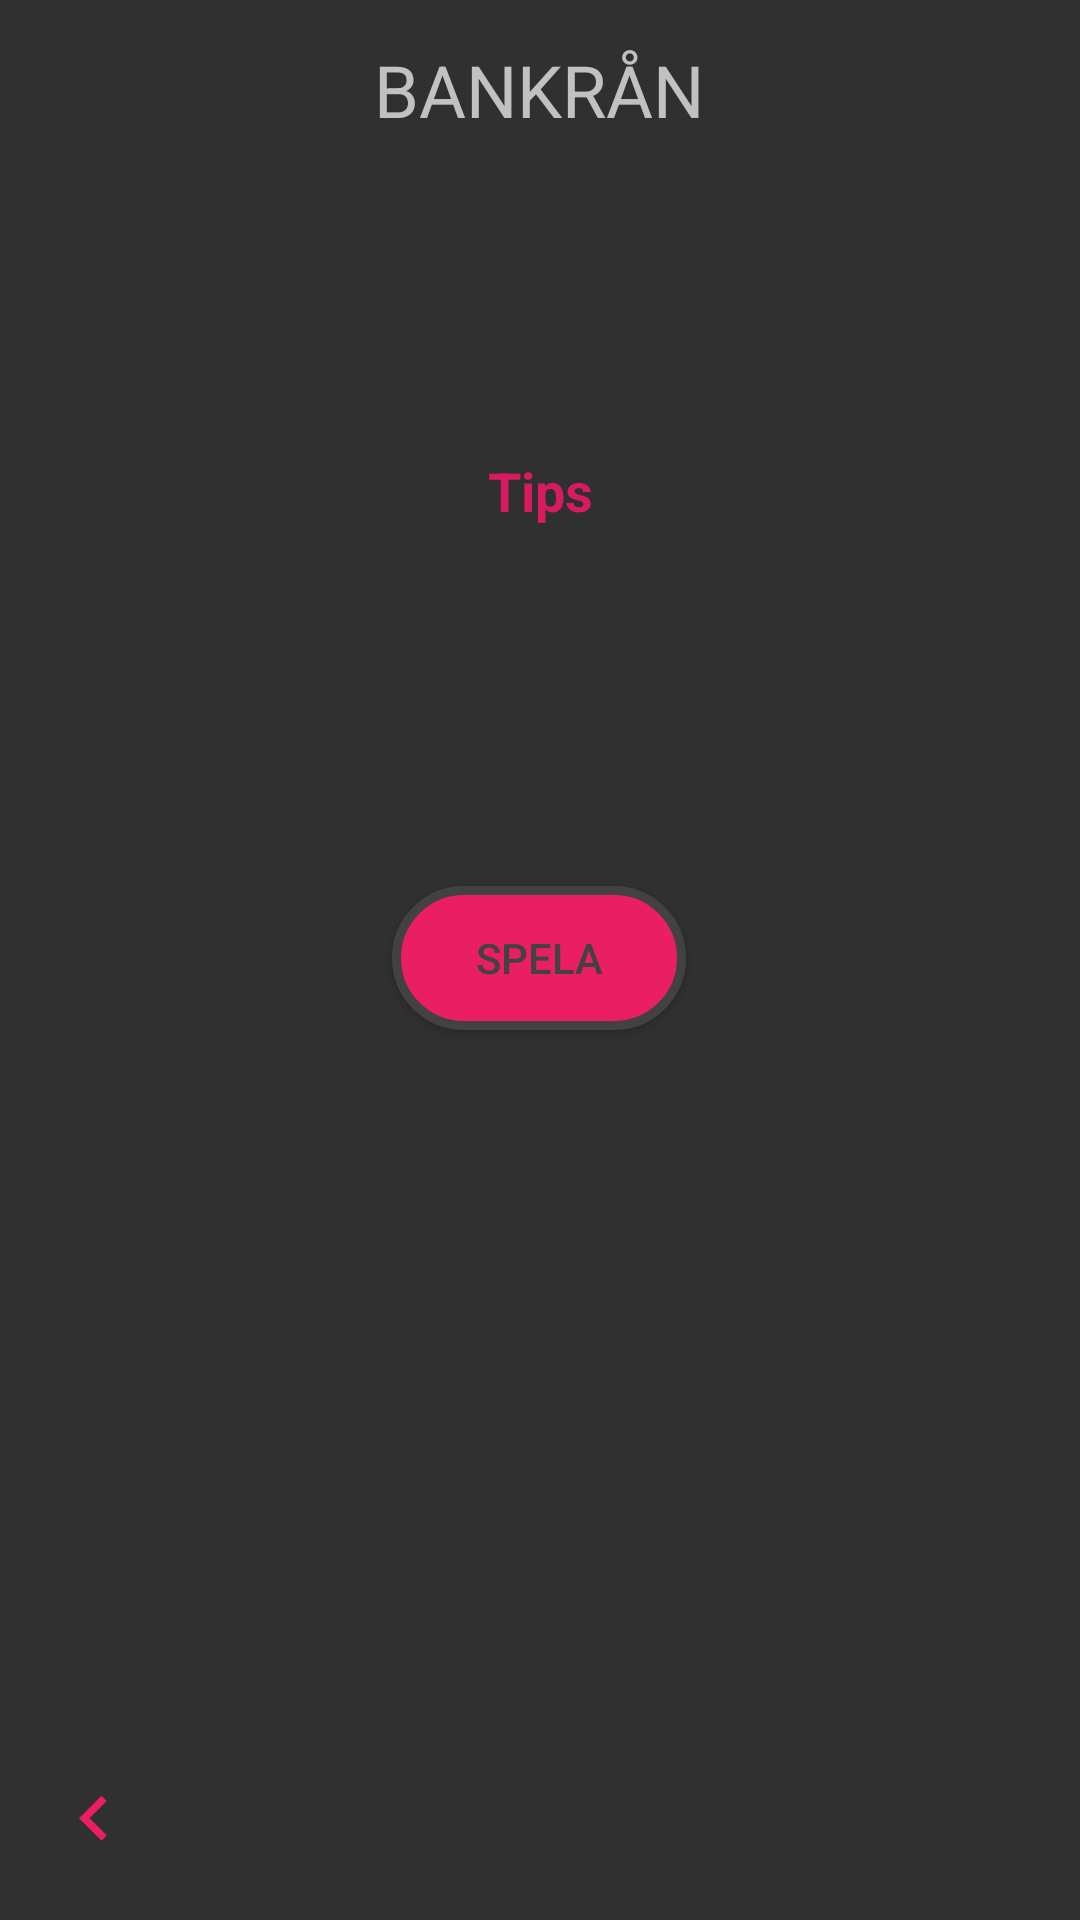

Icons on this 1080px x 1920px Android screen, each with the point to tap as (x=x, y=y):
keyboard arrow left: (x=93, y=1818)
